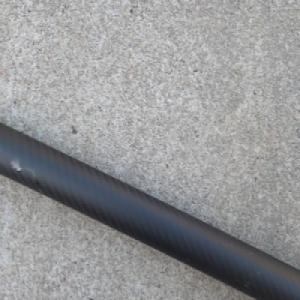LuggagePart: (0, 120, 300, 300)
